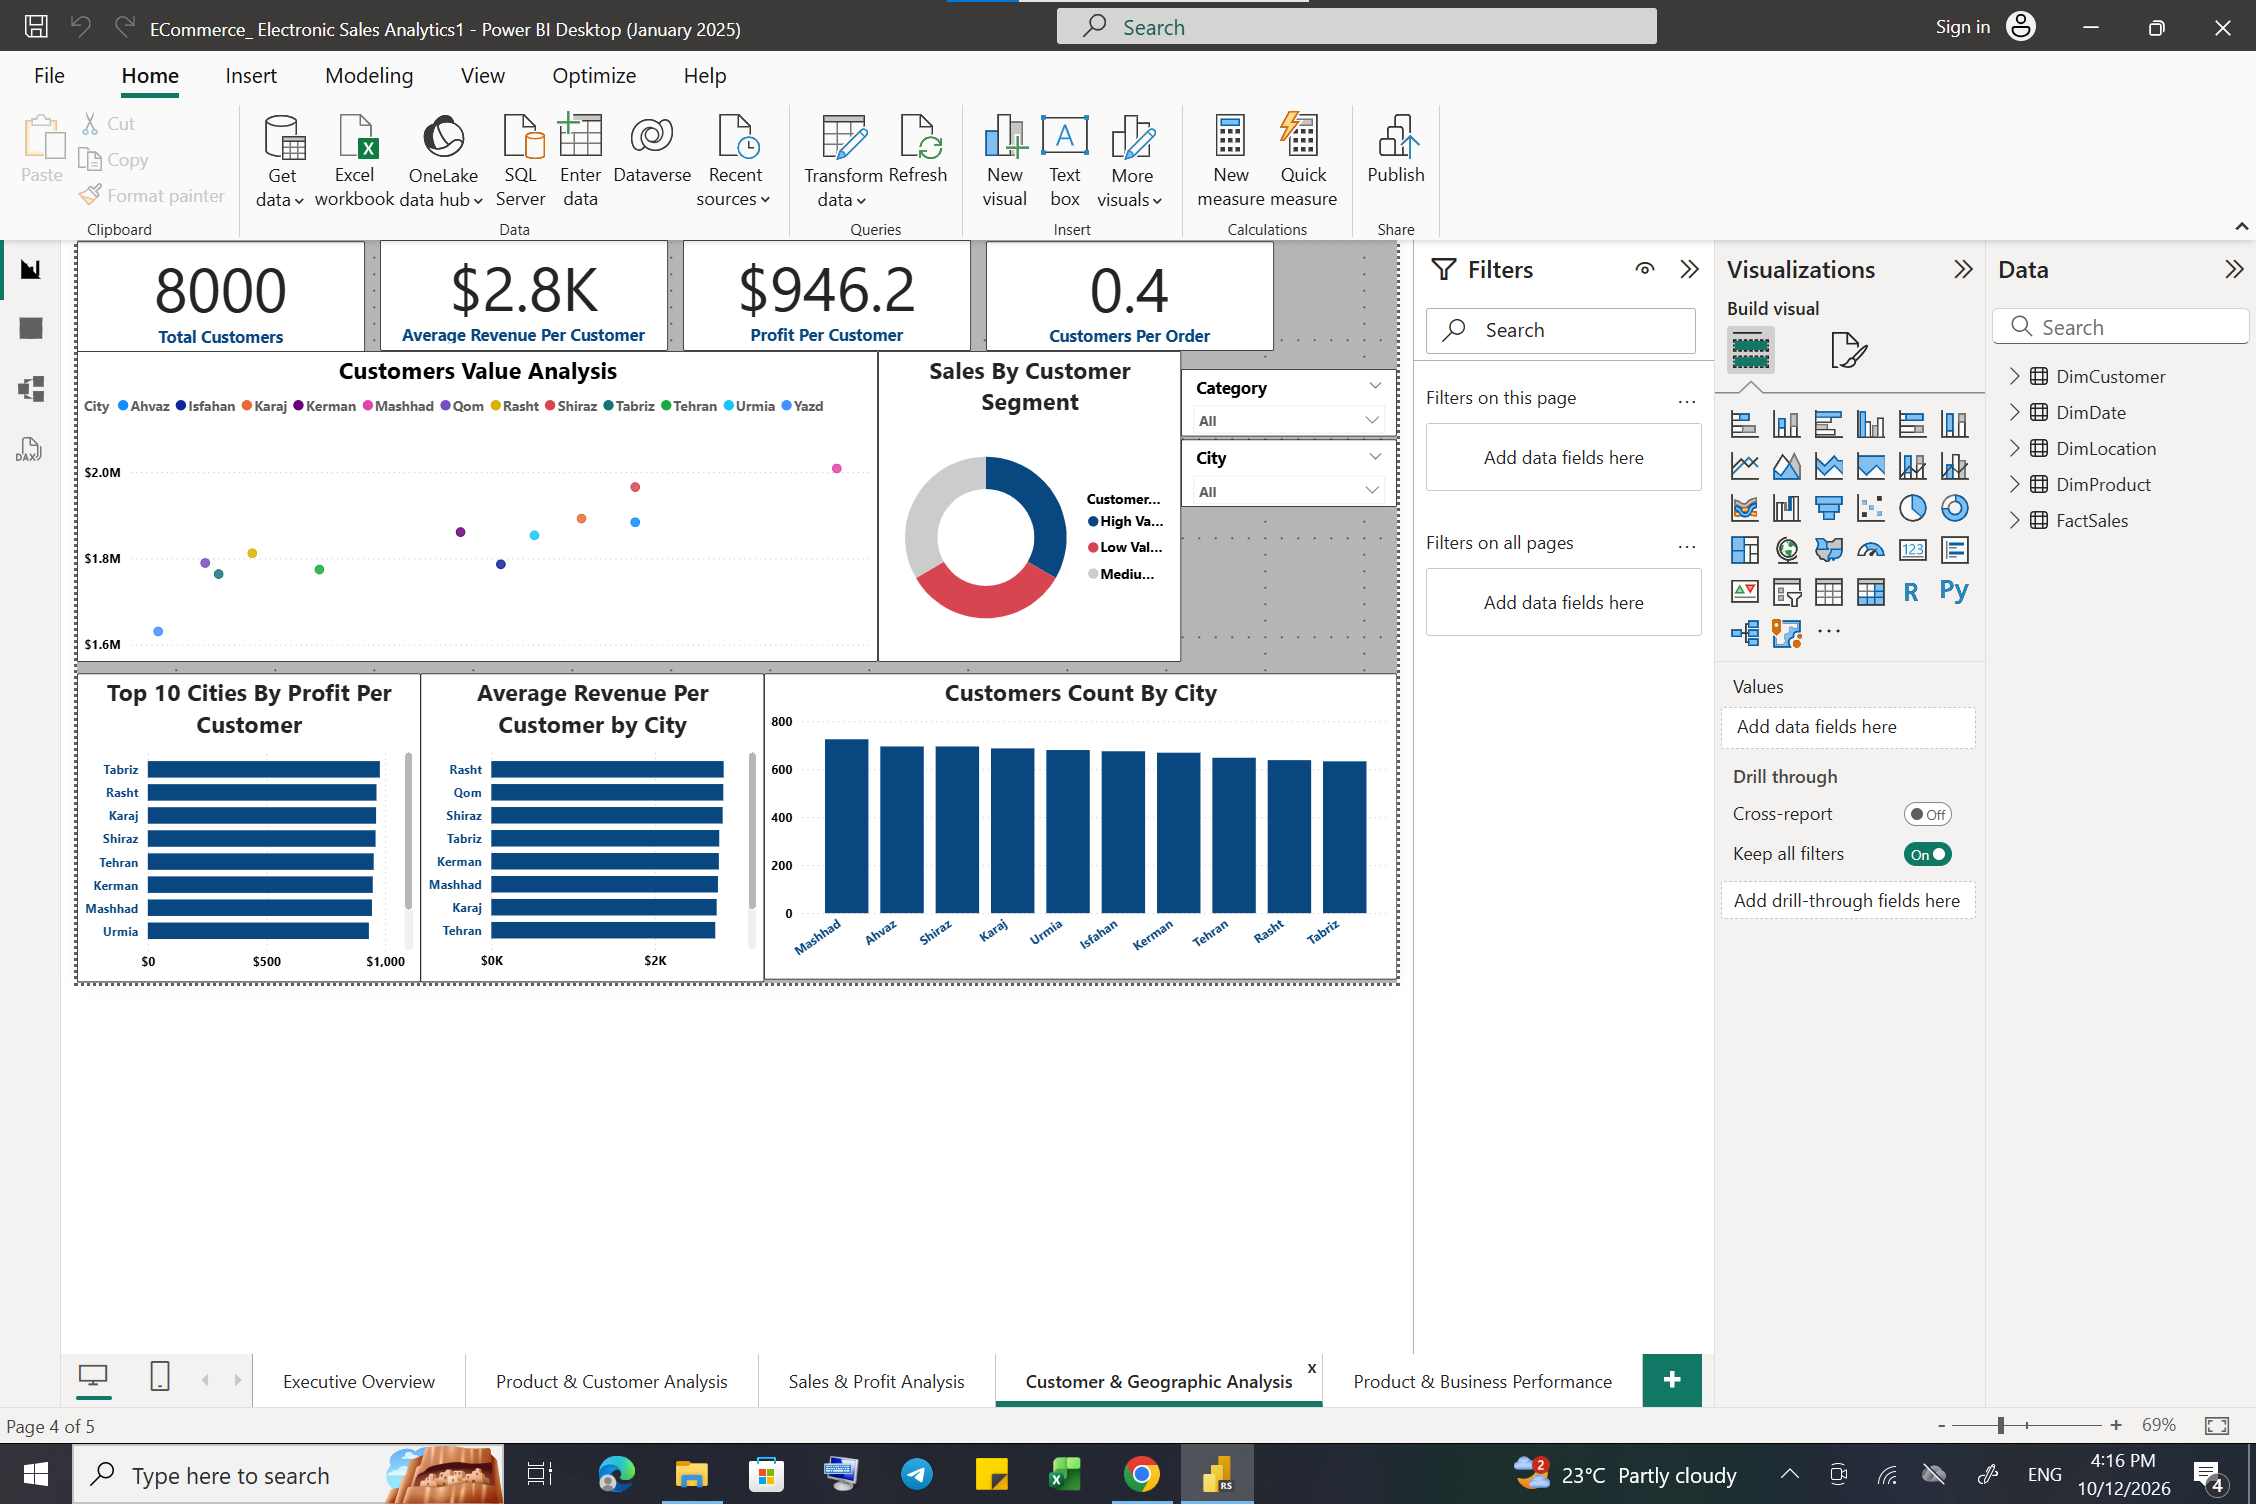

This screenshot's page, from the dashboard's own definition file:
{"tool":"powerbi","page":{"name":"Customer & Geographic Analysis","canvas":[1280,720],"ordinal":3},"visuals":[{"type":"card","fields":{"Values":["DimCustomer.Total Customers"]},"box":[0,1.5,279.3,107.6],"z":0},{"type":"card","fields":{"Values":["FactSales.Profit Per Customer"]},"box":[587.5,0,279.3,107.6],"z":1000},{"type":"card","fields":{"Values":["FactSales.Customers Per Order"]},"box":[881.5,1.5,279.3,106.2],"z":2000},{"type":"card","fields":{"Values":["FactSales.Average Revenue Per Customer"]},"box":[293.9,0,279,107],"z":3000},{"type":"clusteredBarChart","title":"Top 10 Cities By Profit Per Customer","fields":{"Category":["DimCustomer.City"],"Y":["FactSales.Profit Per Customer"]},"box":[0,420.4,333.1,299.6],"z":4000},{"type":"clusteredBarChart","fields":{"Category":["DimCustomer.City"],"Y":["FactSales.Average Revenue Per Customer"]},"box":[333.1,420.4,333,299],"z":5000},{"type":"clusteredColumnChart","title":"Customers Count By City","fields":{"Category":["DimCustomer.City"],"Y":["DimCustomer.Total Customers"]},"box":[666.2,420.4,613.8,296.7],"z":6000},{"type":"scatterChart","title":"Customers Value Analysis","fields":{"X":["DimCustomer.Total Customers"],"Y":["FactSales.Total Sales"],"Series":["DimCustomer.City"]},"box":[0,107.6,776.7,301.1],"z":7000},{"type":"slicer","fields":{"Values":["DimCustomer.City"]},"box":[1070.5,193.5,209.5,65.5],"z":8000},{"type":"slicer","fields":{"Values":["DimProduct.Category"]},"box":[1070.5,125.1,209.5,65.5],"z":9000},{"type":"donutChart","title":"Sales By Customer Segment","fields":{"Category":["DimCustomer.Customer Segment"],"Y":["FactSales.Customer Sales"]},"box":[776.7,107.6,293.8,301.1],"z":10000}]}

Visuals, with their boxes on the page's 1280x720 design canvas (x1, y1, x2, y2). These are canvas units, not pixel positions in the 2256x1504 screenshot, which may show the page scaled, cropped or inside an application window:
card - DimCustomer.Total Customers: 0,2,279,109
card - FactSales.Profit Per Customer: 588,0,867,108
card - FactSales.Customers Per Order: 882,2,1161,108
card - FactSales.Average Revenue Per Customer: 294,0,573,107
"Top 10 Cities By Profit Per Customer" clusteredBarChart: 0,420,333,720
clusteredBarChart - DimCustomer.City x FactSales.Average Revenue Per Customer: 333,420,666,719
"Customers Count By City" clusteredColumnChart: 666,420,1280,717
"Customers Value Analysis" scatterChart: 0,108,777,409
slicer - DimCustomer.City: 1070,194,1280,259
slicer - DimProduct.Category: 1070,125,1280,191
"Sales By Customer Segment" donutChart: 777,108,1070,409
